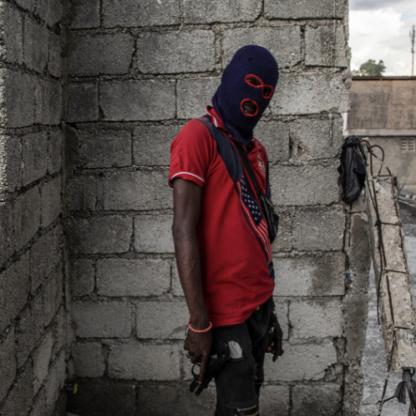criminal: (168, 44, 285, 416)
weapon: (186, 346, 223, 398)
